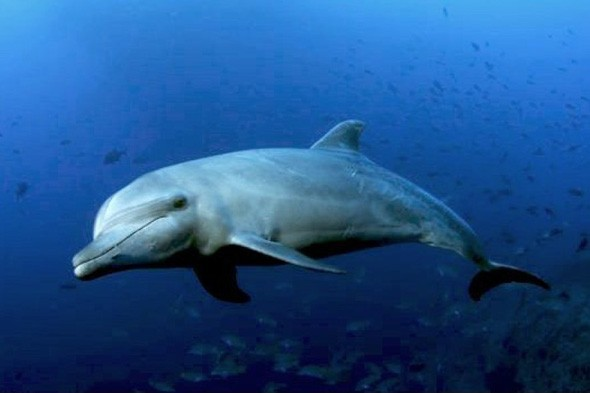dolphin: (72, 118, 568, 332)
